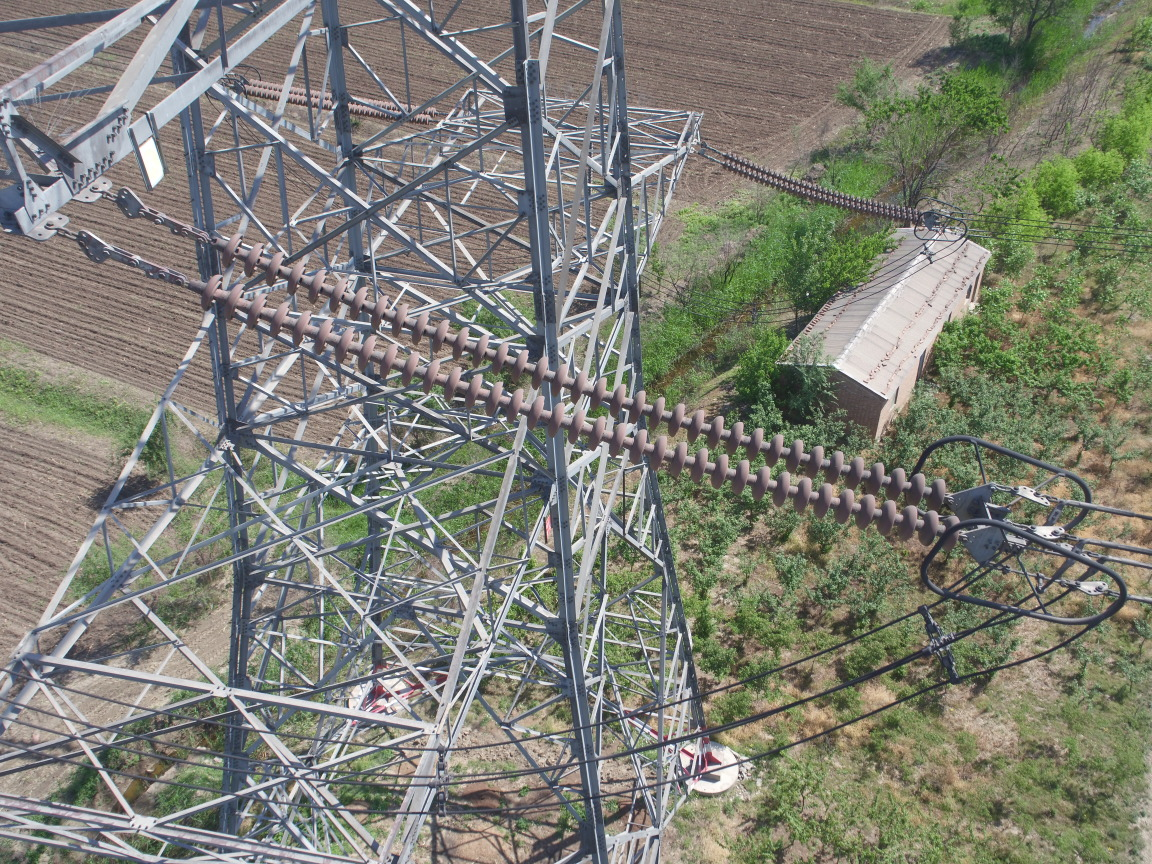insulator: (158, 230, 981, 556), (708, 142, 932, 224)
